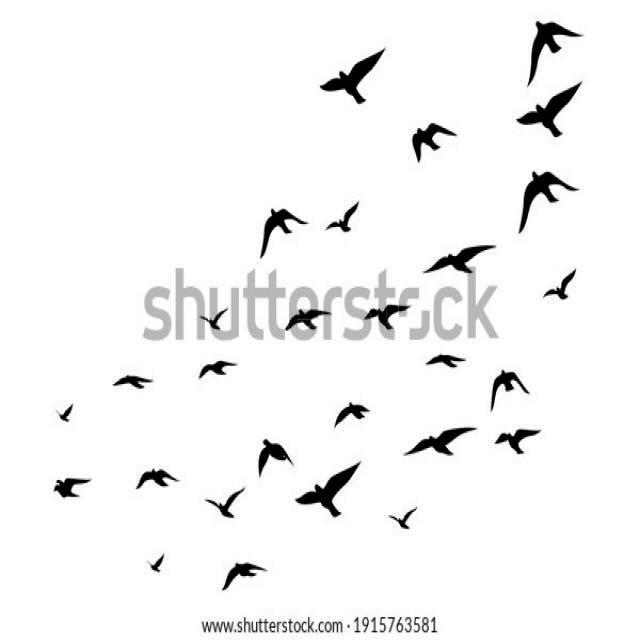bird: (498, 164, 582, 233), (508, 16, 584, 84), (288, 462, 366, 527), (513, 82, 589, 148), (250, 198, 314, 264), (318, 48, 388, 108), (396, 112, 464, 170), (276, 280, 338, 343), (398, 426, 483, 470), (361, 282, 416, 344), (422, 237, 497, 282), (482, 426, 544, 476), (317, 200, 377, 248), (199, 472, 249, 528), (422, 330, 475, 380), (482, 363, 536, 412), (46, 465, 94, 513), (214, 554, 268, 596), (328, 399, 386, 436), (130, 459, 179, 502), (382, 482, 418, 539), (186, 358, 243, 390), (258, 431, 296, 477), (534, 271, 583, 306), (48, 396, 88, 438), (110, 368, 160, 396), (195, 306, 233, 339), (142, 550, 174, 584)
